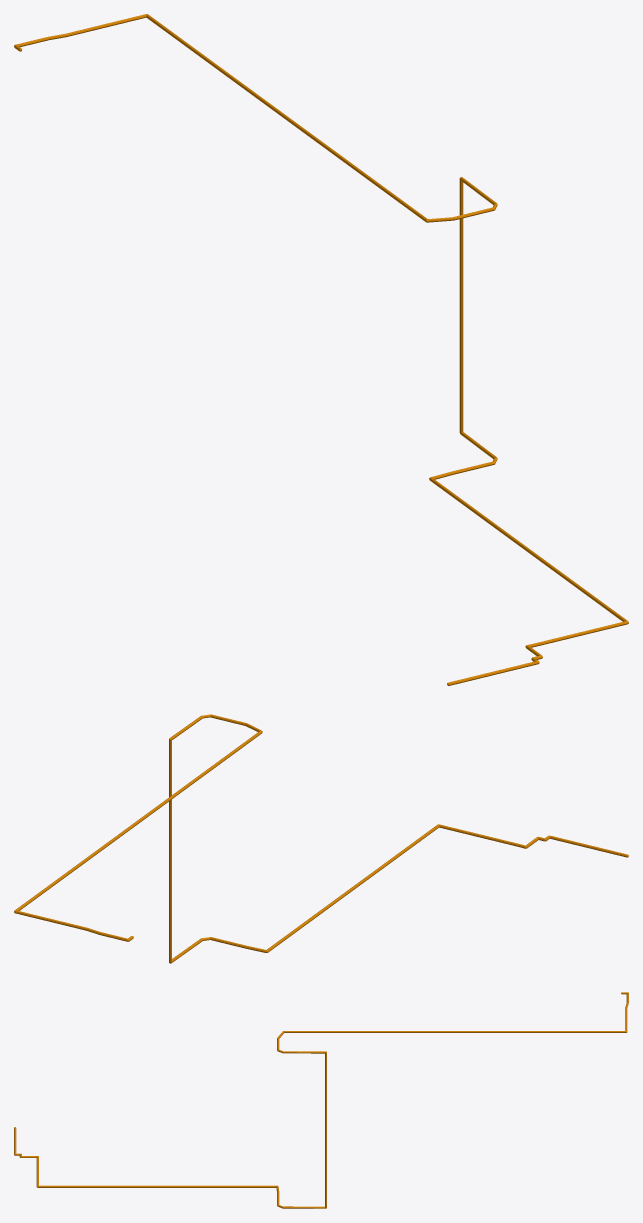
3 views of the same model, one above another, from view 1: azimuth 30°, elevation 25°; view 2: azimuth 150°, elevation 25°; view 3: azimuth 270°, elevation 25° (orthographic). The views are drawn at different scales.
Bounding box in the file's own units: 1670 × 1520 × 5386.
